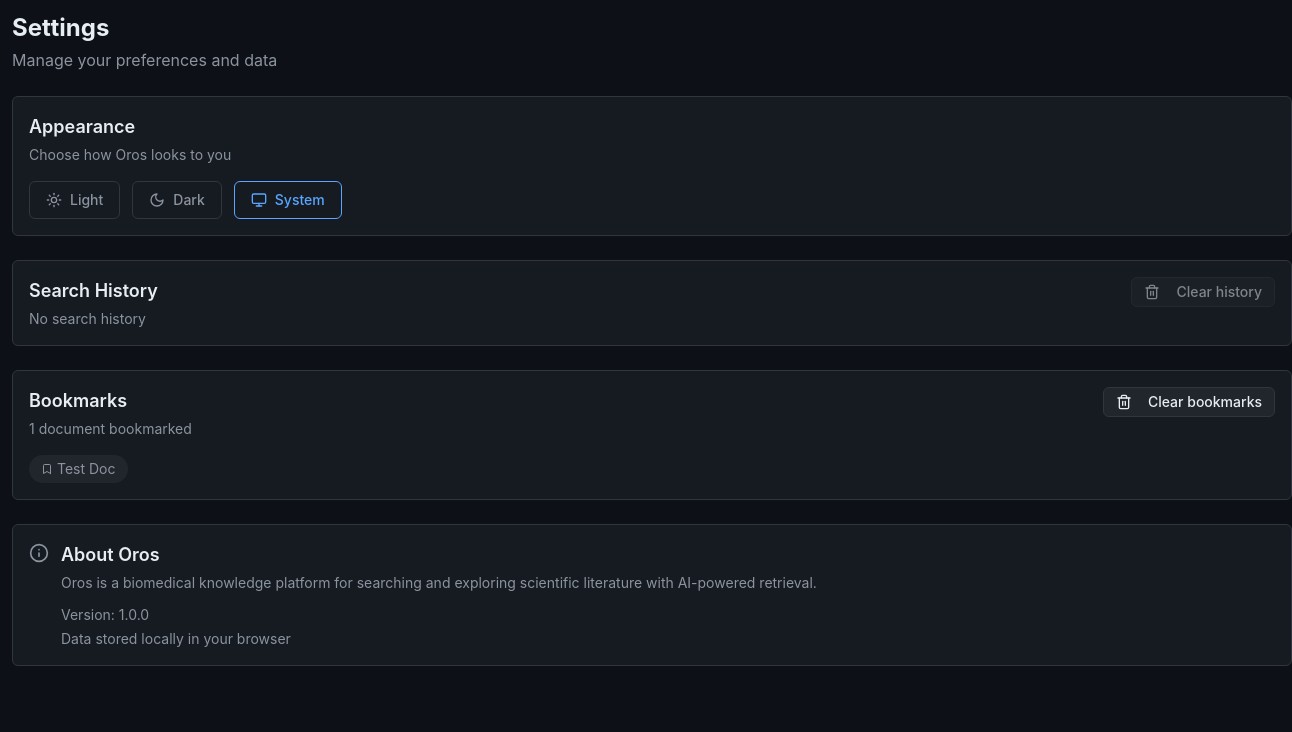
Scenario: Settings Page › clears bookmarks when clicking clear button
Step 1. Click the button "Clear bookmarks" → point(1189, 402), box left=1103, top=387, right=1275, bottom=417
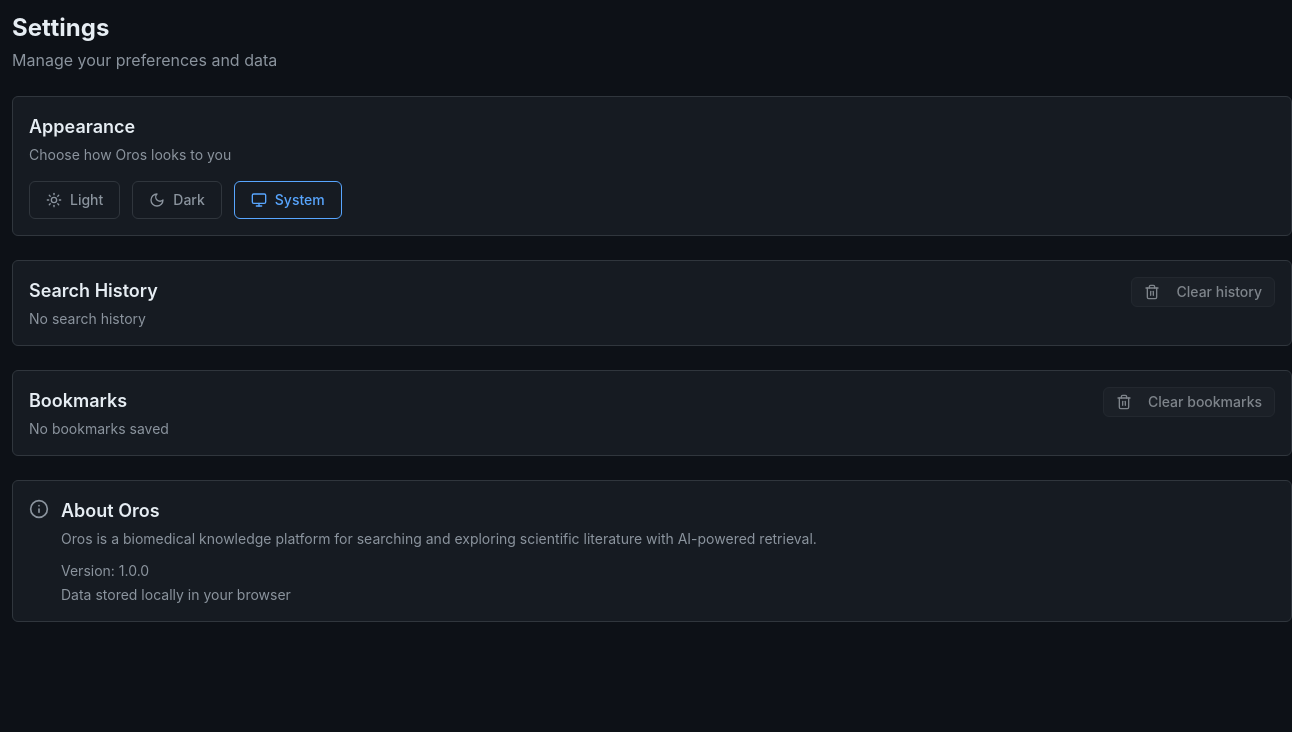
Result: the text "No bookmarks saved" is shown at left=29, top=419, right=169, bottom=439
